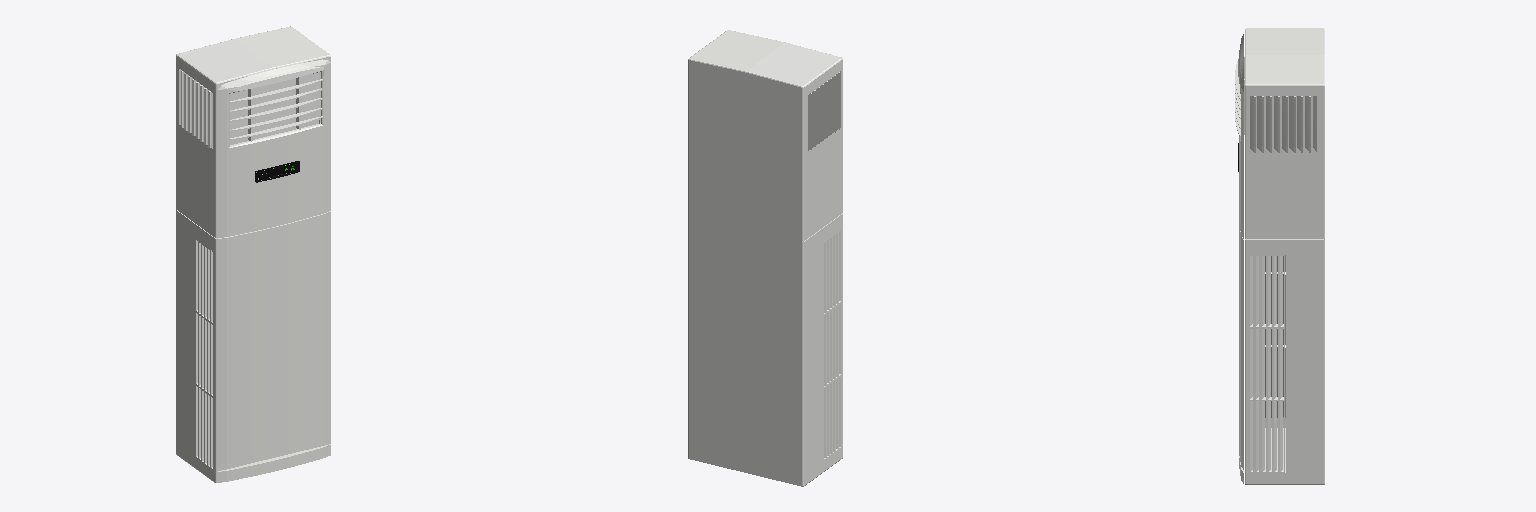
The picture shows the model from 3 angles: view 1: azimuth 30°, elevation 25°; view 2: azimuth 150°, elevation 25°; view 3: azimuth 270°, elevation 25°; orthographic projection.
Parts seen in each view (by area): view 1: Rectangle092; view 2: Rectangle092; view 3: Rectangle092.
Boxes of the visible parts, box(x1,y1,x2,y2) form: Rectangle092: box(176, 26, 330, 482); Rectangle092: box(688, 30, 842, 486); Rectangle092: box(1235, 28, 1324, 484).
Size of the model in its own units: 516 by 1656 by 336.
2 materials, 1 textured.